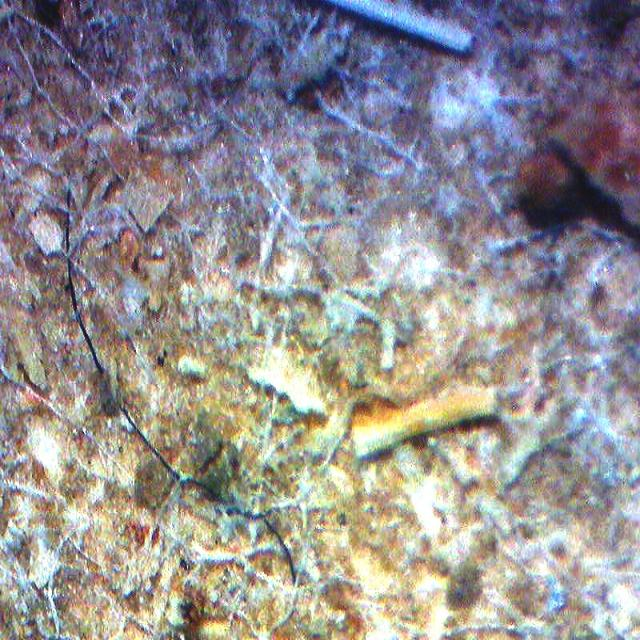microplastic: (118, 405, 296, 587), (64, 185, 105, 375)
